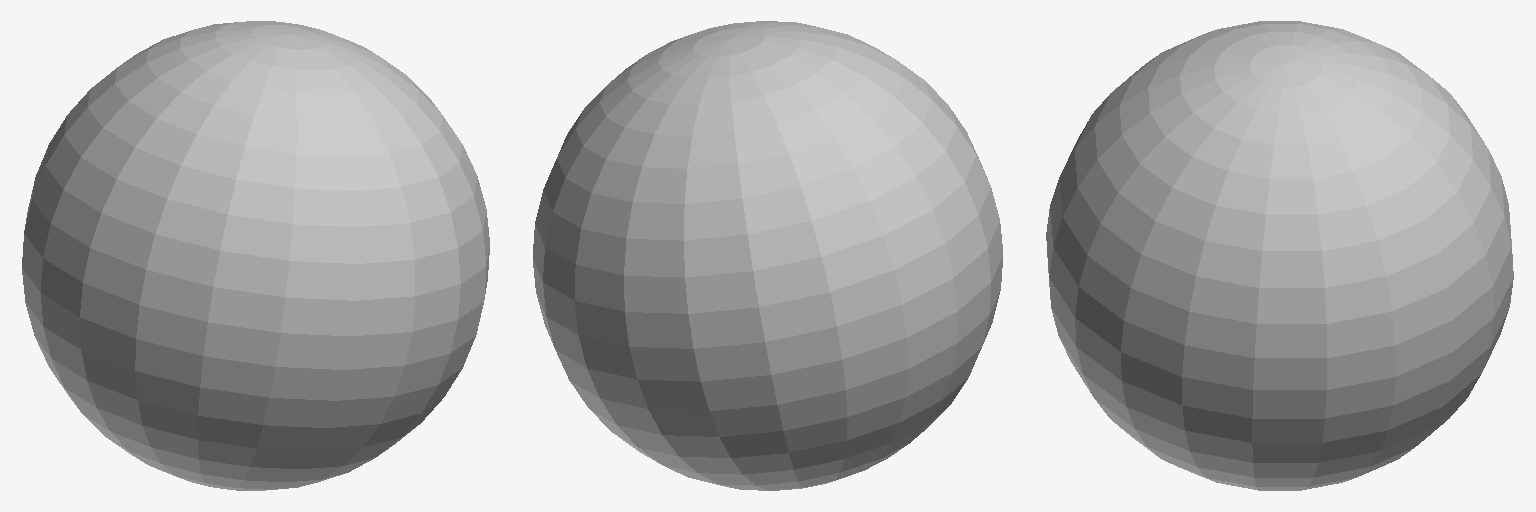
File: sky_1.obj
The picture shows the model from 3 angles: view 1: azimuth 30°, elevation 25°; view 2: azimuth 150°, elevation 25°; view 3: azimuth 270°, elevation 25°; orthographic projection.
Visible parts, largest first — view 1: skydome11.001; view 2: skydome11.001; view 3: skydome11.001.
Part boxes in pixels (bbox=[...]): skydome11.001: bbox=[22, 21, 489, 490]; skydome11.001: bbox=[533, 21, 1002, 490]; skydome11.001: bbox=[1046, 21, 1513, 490].
Bounding box in the file's own units: 3.85 × 3.87 × 3.85.